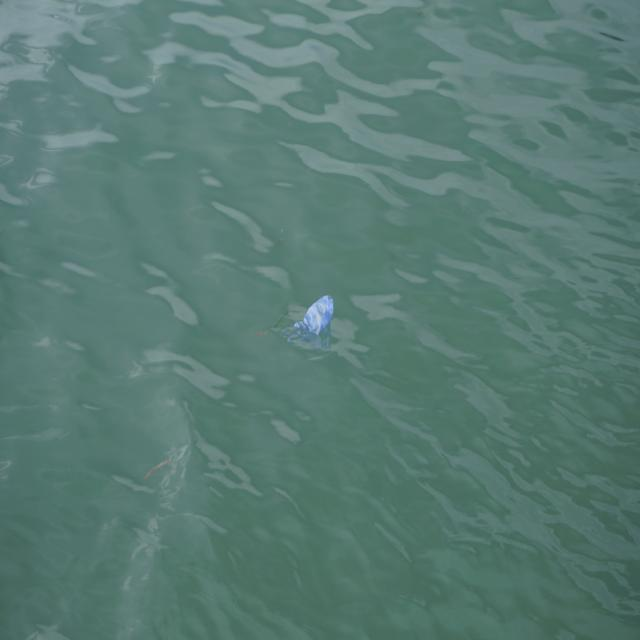Kantong Plastik: (284, 286, 341, 359)
